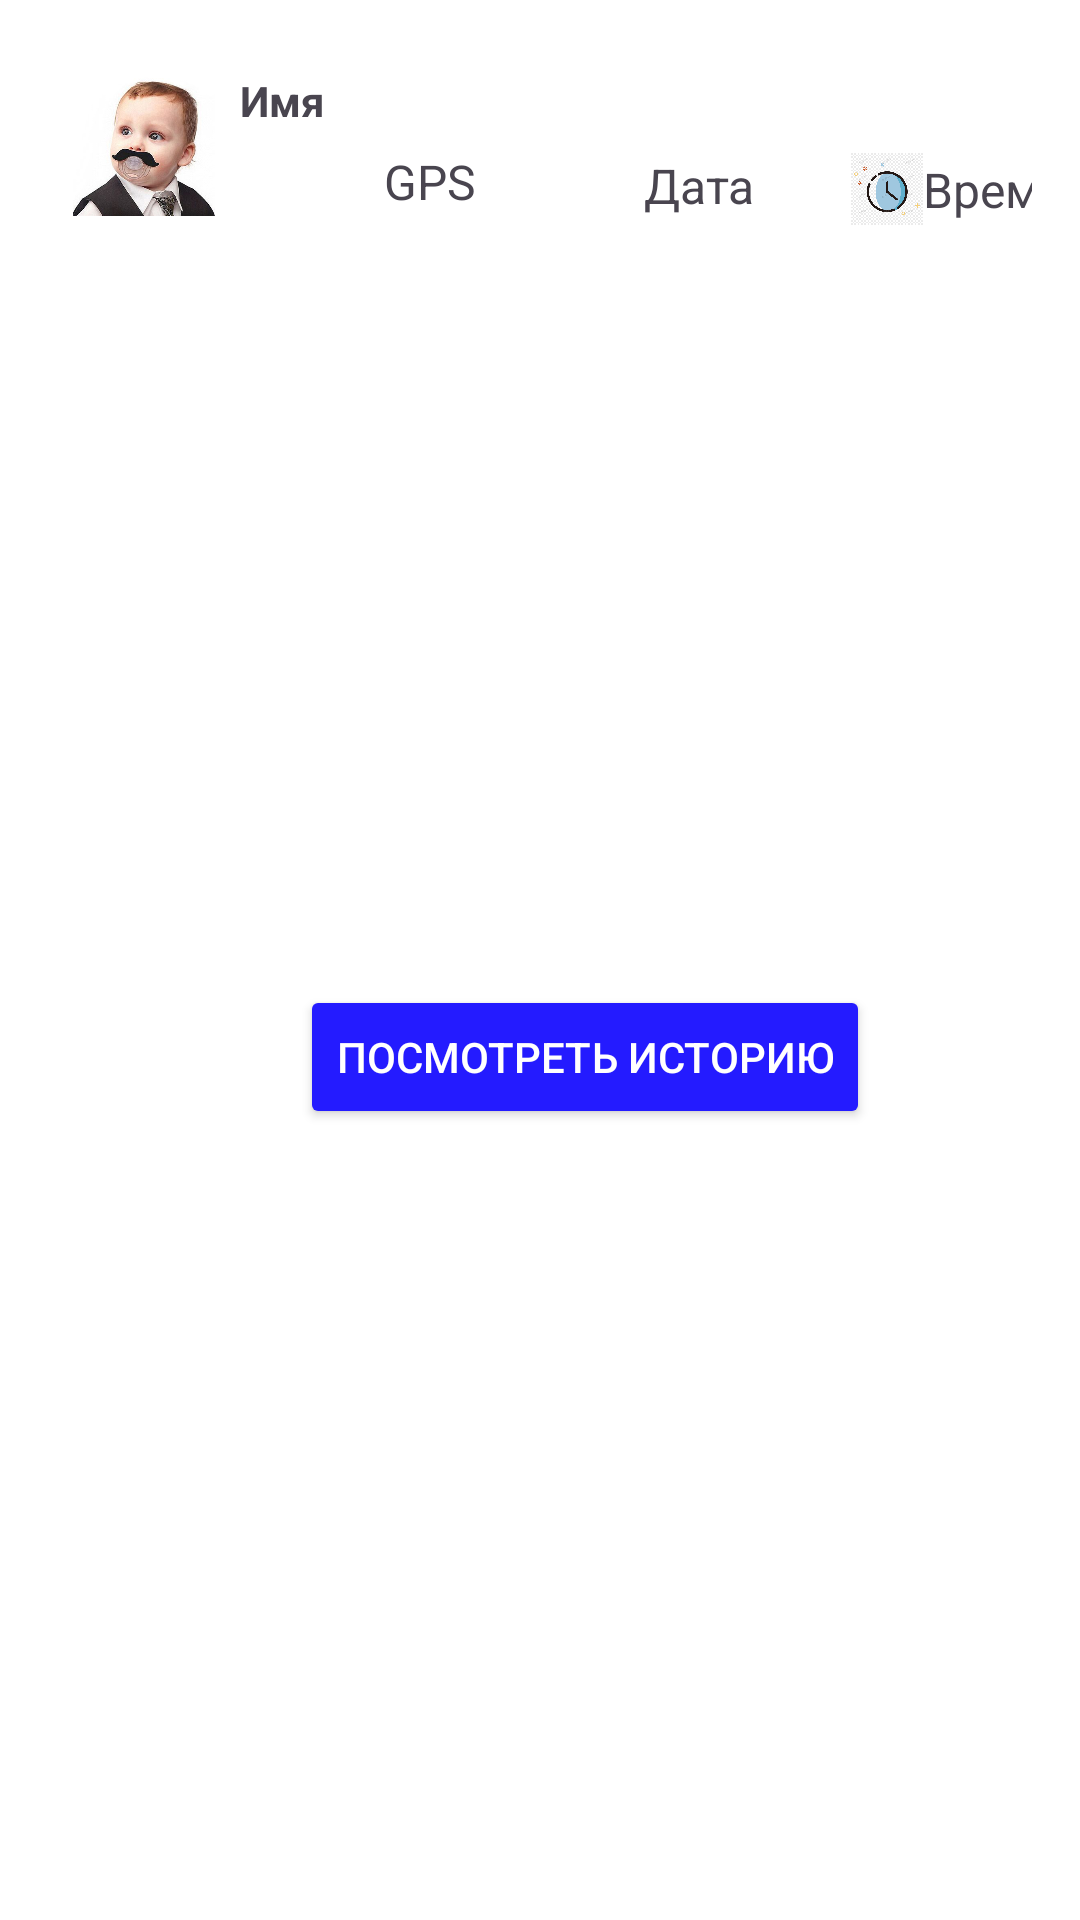

Icons on this 1080px×1920px Android screen, each with the point to tap as [x,y]:
clock: [887,186]
foto: [144,148]
